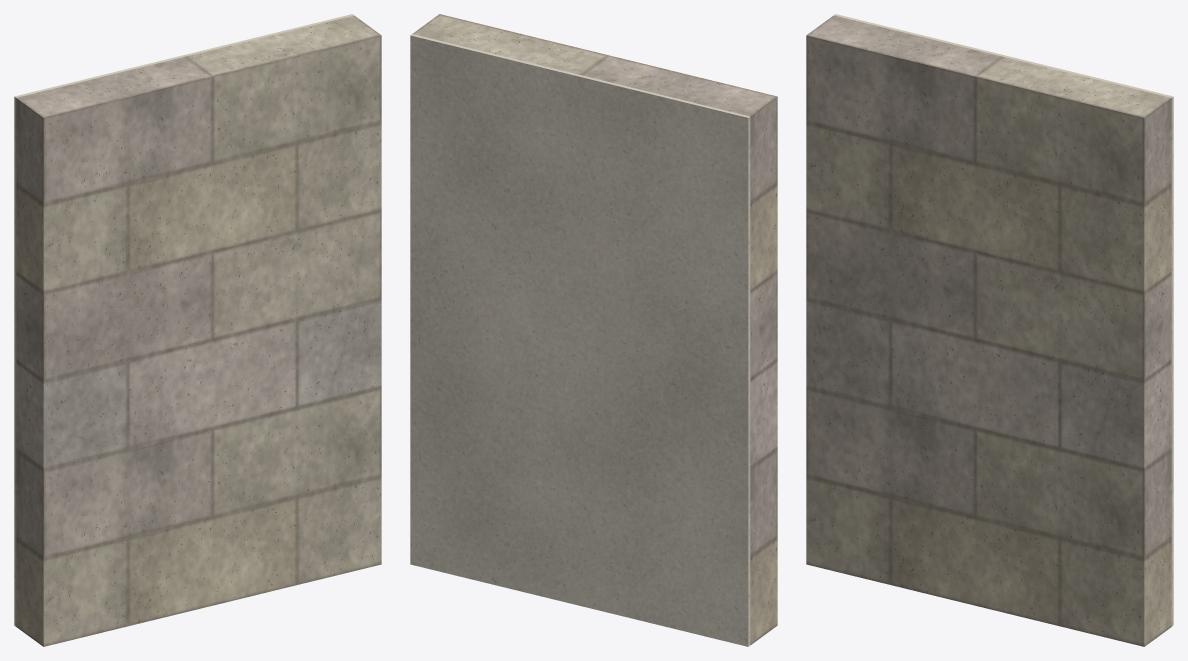
File: wall_b2_plain.glb
3 renders of one model, left to right at view 1: azimuth 30°, elevation 25°; view 2: azimuth 150°, elevation 25°; view 3: azimuth 330°, elevation 25°, orthographic.
Visible parts, largest first — view 1: wall_b2_plain_grey, wall_b2_plain_plaster; view 2: wall_b2_plain_plaster, wall_b2_plain_grey; view 3: wall_b2_plain_grey, wall_b2_plain_plaster.
Part boxes in pixels (left/top/right/bottom): wall_b2_plain_grey: left=16, top=15, right=381, bottom=646; wall_b2_plain_plaster: left=14, top=14, right=353, bottom=626; wall_b2_plain_plaster: left=410, top=34, right=750, bottom=646; wall_b2_plain_grey: left=412, top=14, right=777, bottom=645; wall_b2_plain_grey: left=806, top=15, right=1171, bottom=646; wall_b2_plain_plaster: left=834, top=14, right=1173, bottom=626.
Size of the model in its own units: 2 by 2.99 by 0.3.
Materials: 2 (2 with a texture image).
